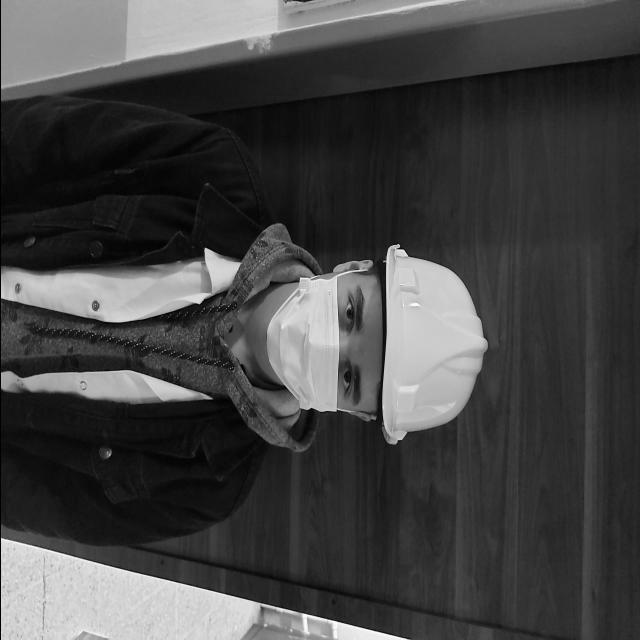construction helmet: (374, 243, 487, 446)
